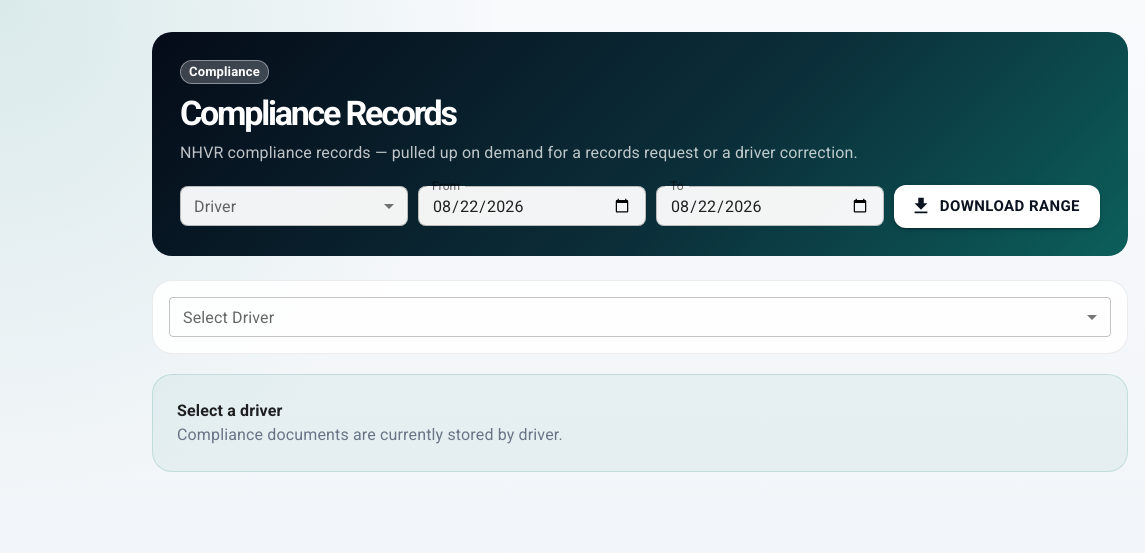
Test case: admin WorkDiary — date-range bulk download › PASS: a 404 (nothing found for that range) shows a clear message
Expected: the text "Select a driver" is shown, [177,400,282,420]
Click the button "Download Range": (997, 206) [894,185,1100,228]
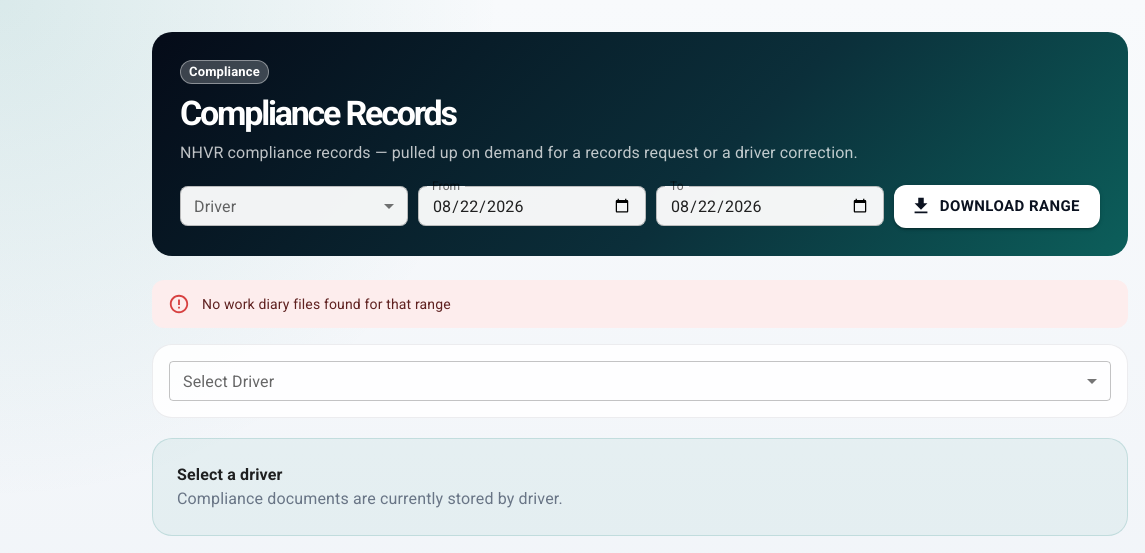
Expected: the text "No work diary files found for that range" is shown, [202,296,451,312]
